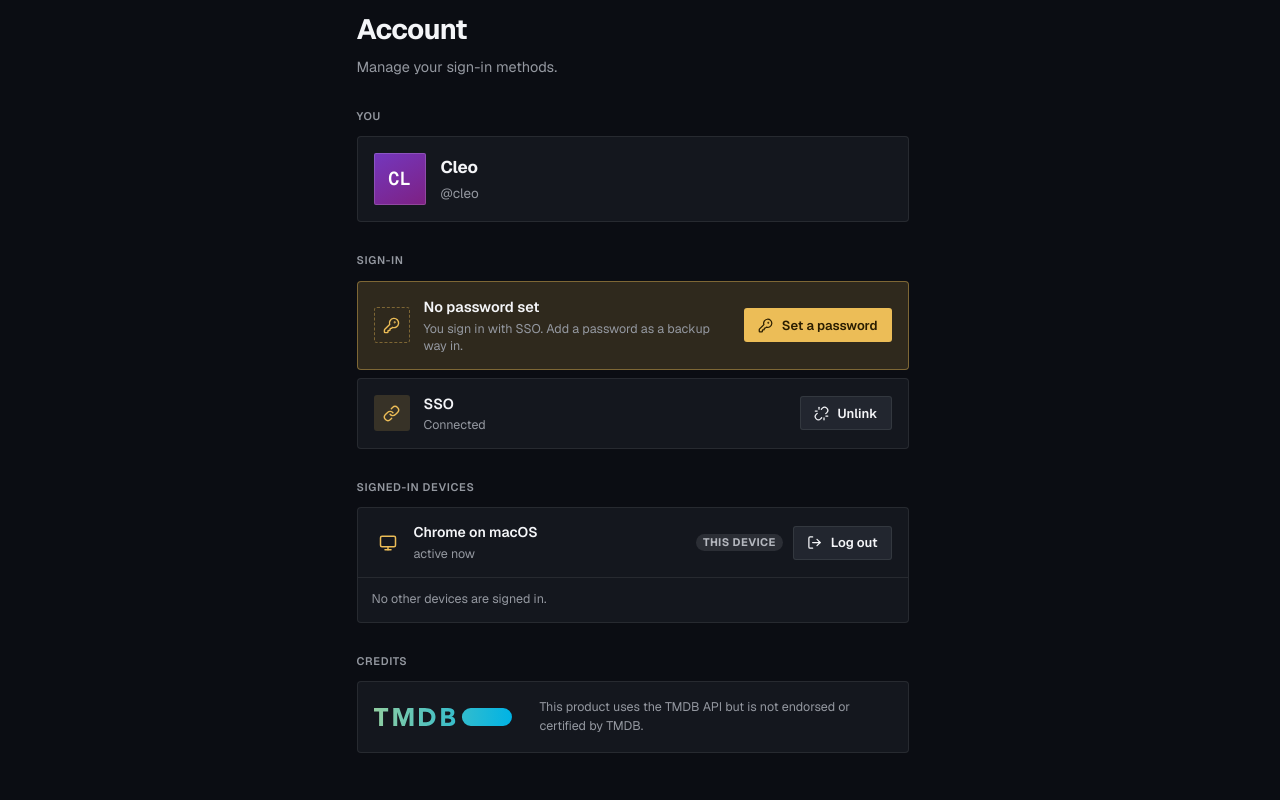
Test: opening a ceremony from its row › keeps one ceremony open at a time when a dialog hands off to another
Click the button "Unlink".
click(846, 413)  # box [800,396,892,430]
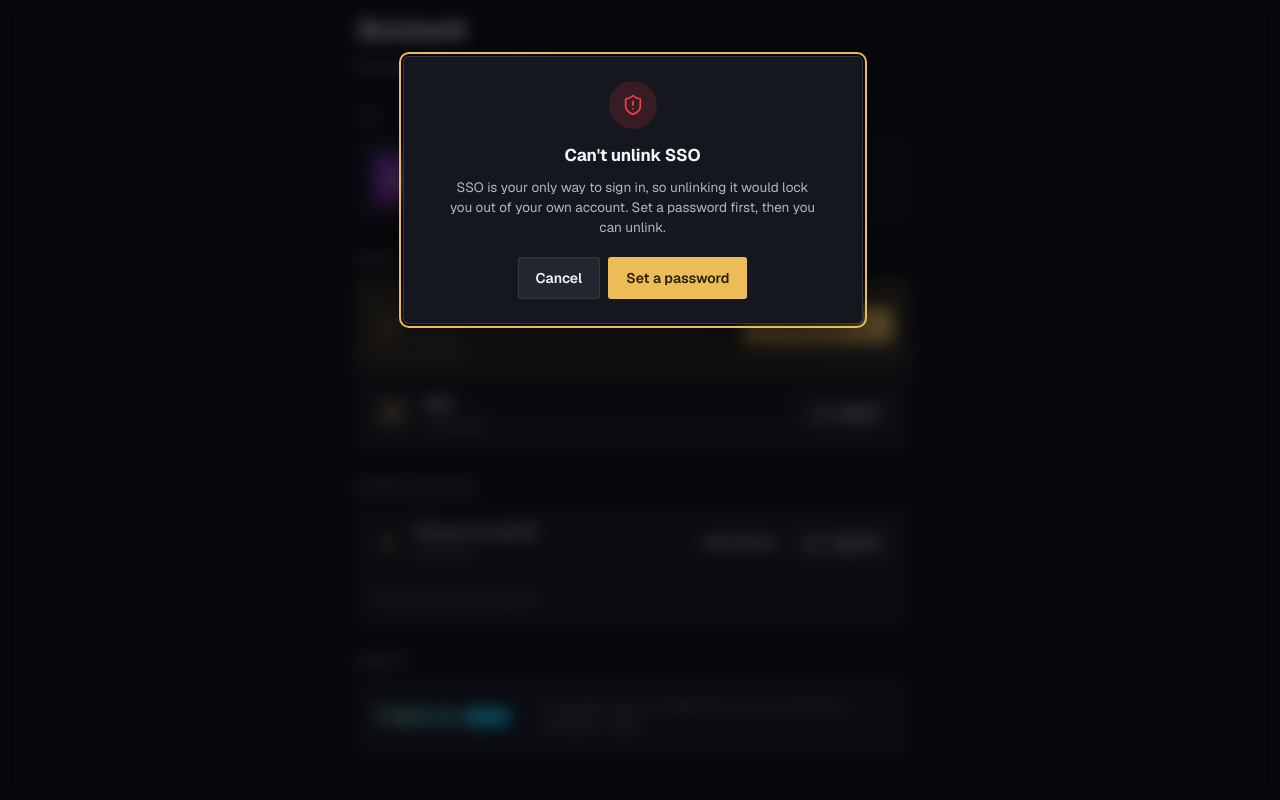
Expected: the heading "Can't unlink SSO" is shown, [565,144,700,166]
Note: Scoped to the guard: the row behind it has its own Set a password.
Click the button "Set a password".
click(678, 278)  # box [608,257,747,299]
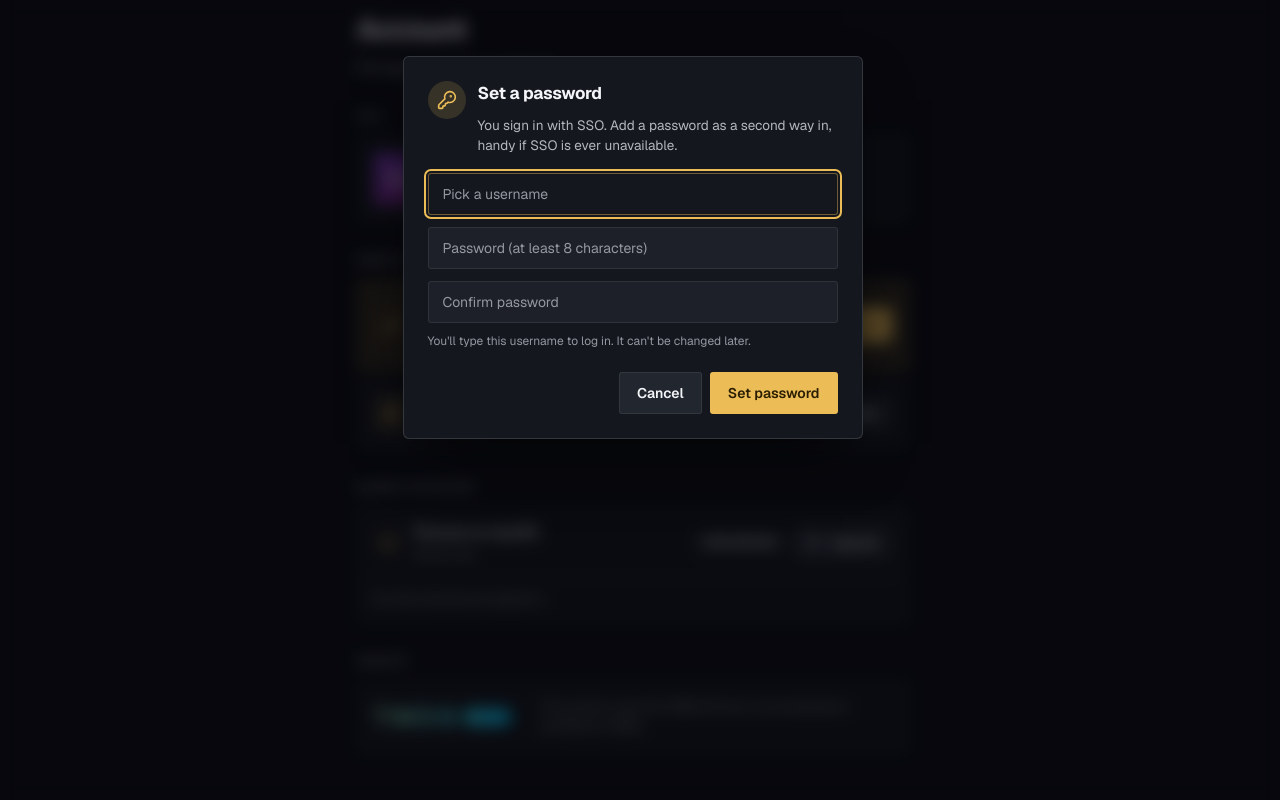
Expected: the number of dialogs is 1, [402,56,862,439]
Expected: the heading "Set a password" is shown, [478,82,602,104]
Expected: the heading "Can't unlink" is gone
